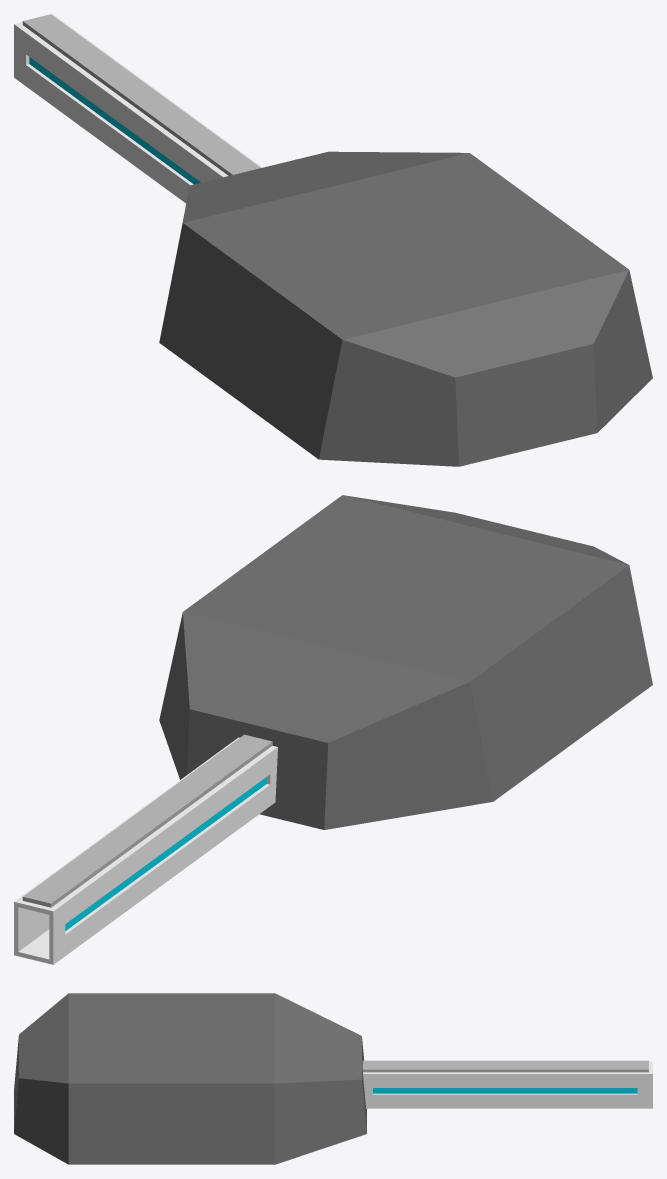
Rendered from Rail2.fbx.
3 views of the same model, one above another, from view 1: azimuth 30°, elevation 25°; view 2: azimuth 150°, elevation 25°; view 3: azimuth 270°, elevation 25° (orthographic). The views are drawn at different scales.
Parts seen in each view (by area): view 1: Cube; view 2: Cube; view 3: Cube.
Boxes of the visible parts, x1,y1,x2,y2 form: Cube: (14, 14, 652, 466); Cube: (14, 495, 652, 964); Cube: (14, 993, 652, 1164).
Bounding box in the file's own units: 146 × 47.83 × 376.
1 material, 1 textured.
